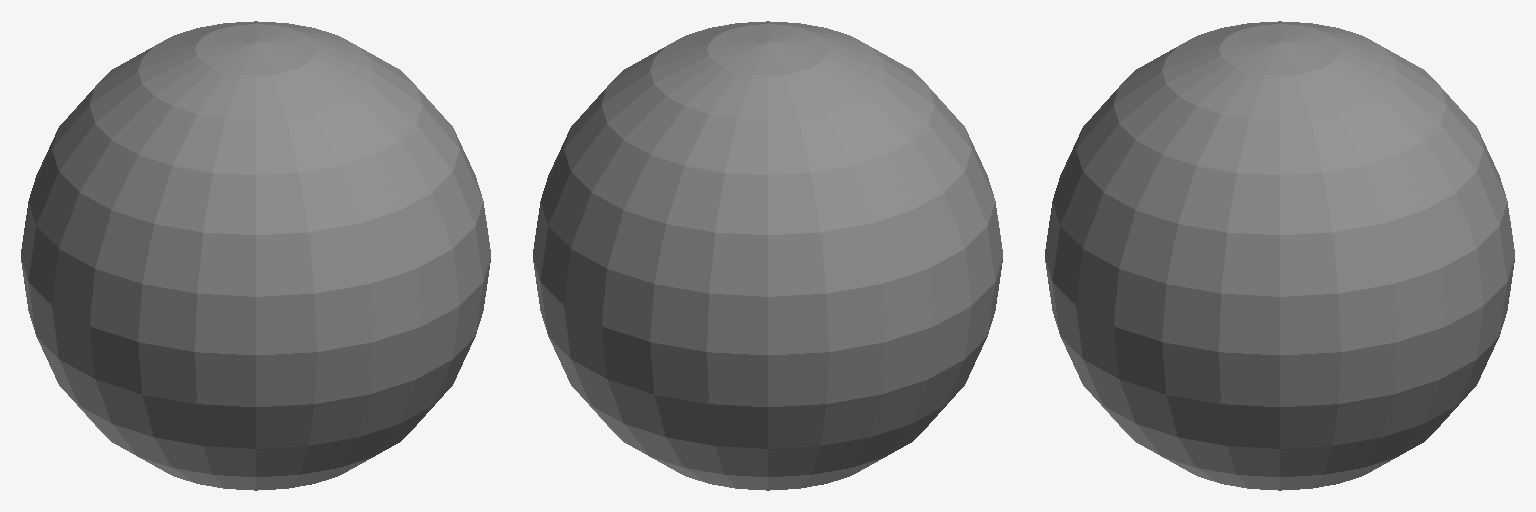
Rendered from ball.obj.
The picture shows the model from 3 angles: view 1: azimuth 30°, elevation 25°; view 2: azimuth 150°, elevation 25°; view 3: azimuth 270°, elevation 25°; orthographic projection.
Parts seen in each view (by area): view 1: Sphere001; view 2: Sphere001; view 3: Sphere001.
Part boxes in pixels (bbox=[...]): Sphere001: bbox=[21, 21, 490, 490]; Sphere001: bbox=[533, 21, 1002, 490]; Sphere001: bbox=[1045, 21, 1514, 490].
Size of the model in its own units: 1 by 1 by 1.